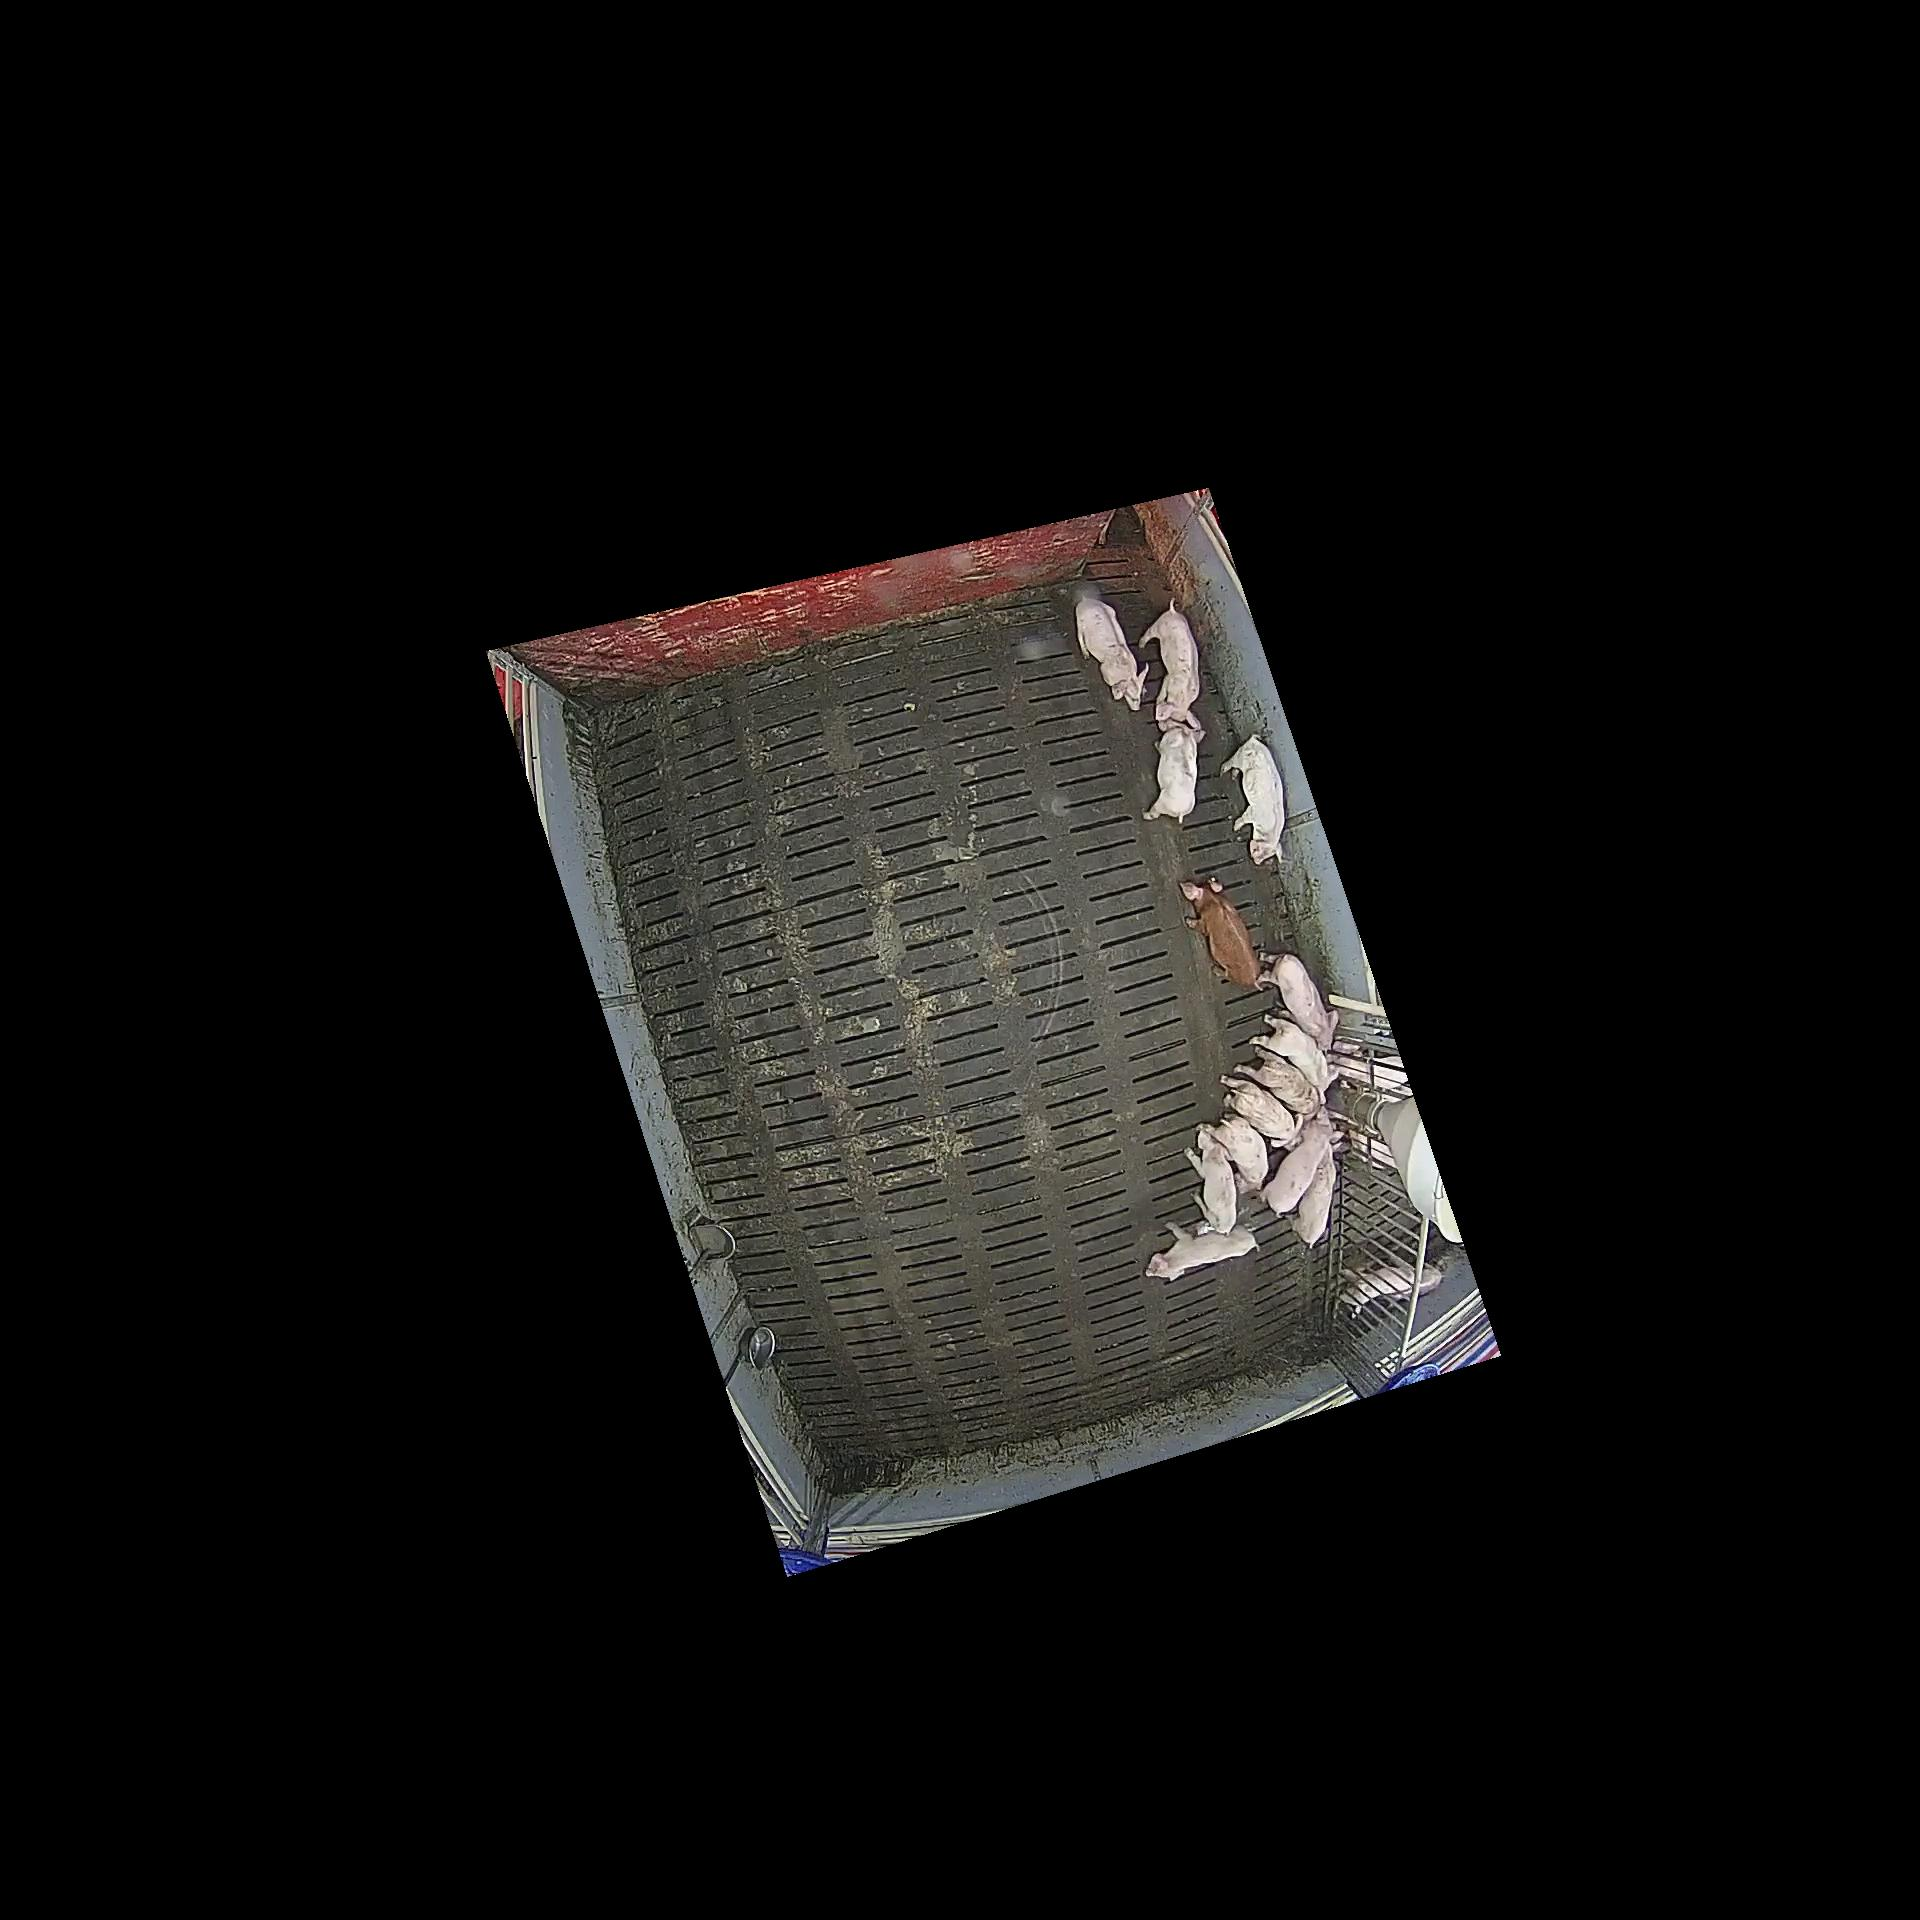pig: (1180, 876, 1273, 988), (1254, 1106, 1345, 1218), (1220, 733, 1285, 865), (1074, 598, 1148, 710), (1139, 598, 1201, 731), (1250, 1015, 1342, 1104), (1259, 951, 1340, 1050), (1285, 1143, 1354, 1250), (1146, 1222, 1261, 1284), (1233, 1046, 1320, 1124), (1143, 719, 1206, 823), (1220, 1076, 1305, 1152), (1194, 1113, 1271, 1192), (1183, 1132, 1236, 1238)
